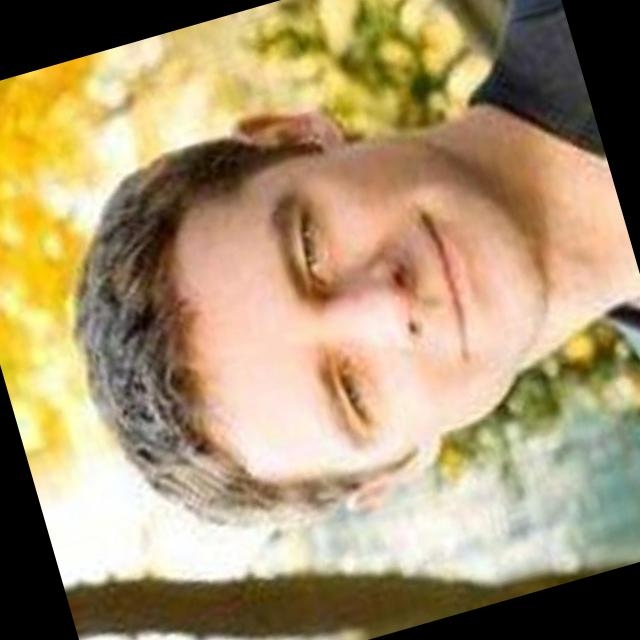bareface: (55, 110, 552, 538)
